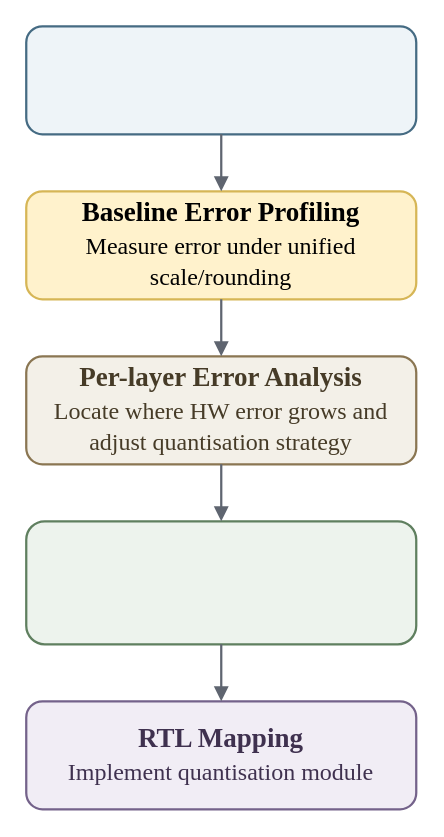
Some shapes in this 444 by 837 pixel diagram are drawn without their labels. Here are the shapes that lost their labels. From the top down, the box of each, then its label:
(24, 24, 417, 135): Precision Sweep Find quantisation-sensitive layers
(24, 519, 417, 645): Per-layer Quantisation Strategy Choose Q formats, scales/rounding method
